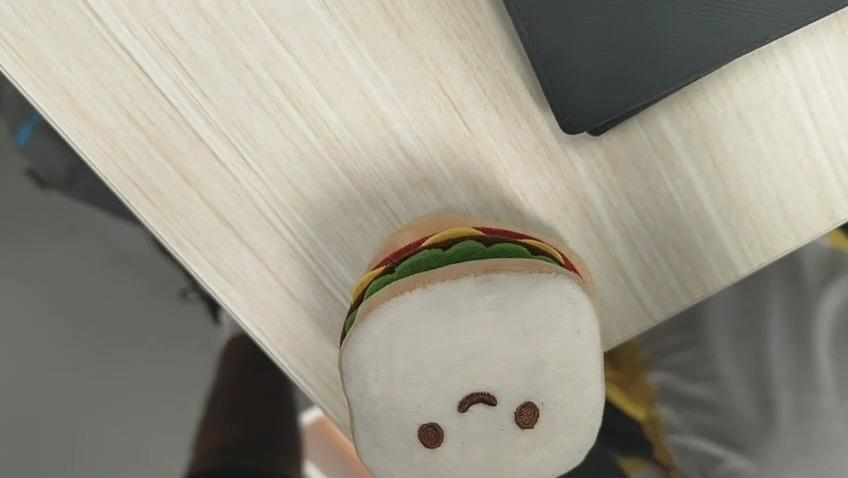objects: (337, 212, 606, 478)
